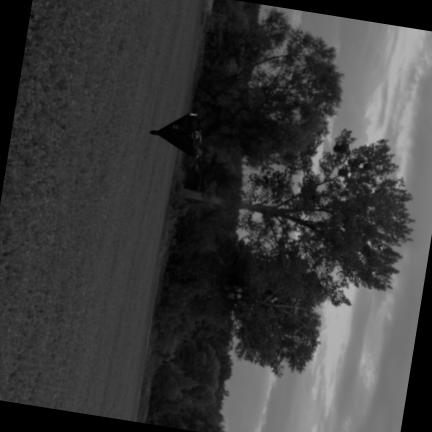Shahed: (149, 114, 200, 157)
